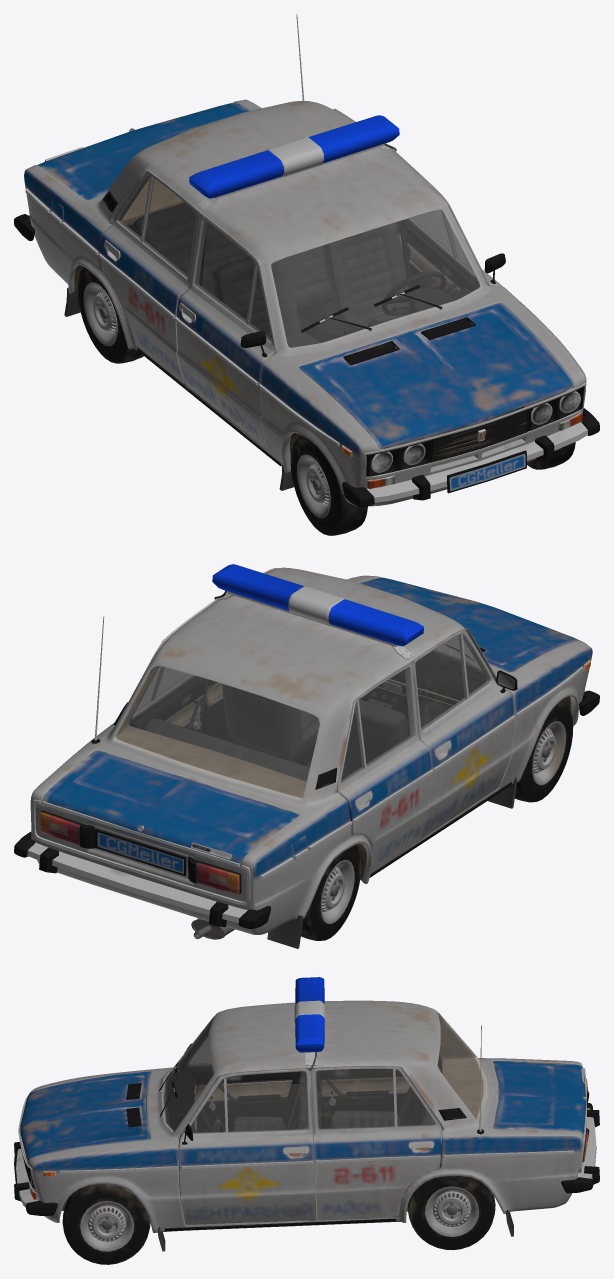
The model's file is zhiguli_police.glb.
The picture shows the model from 3 angles, top to bottom: view 1: azimuth 30°, elevation 25°; view 2: azimuth 150°, elevation 25°; view 3: azimuth 270°, elevation 25°; orthographic projection. The views are drawn at different scales.
Visible parts, largest first — view 1: vaz_2106_main.001_0; view 2: vaz_2106_main.001_0; view 3: vaz_2106_main.001_0.
Boxes of the visible parts, x1,y1,x2,y2 form: vaz_2106_main.001_0: (14, 14, 599, 535); vaz_2106_main.001_0: (14, 564, 599, 948); vaz_2106_main.001_0: (14, 977, 599, 1264).
Bounding box in the file's own units: 1.77 × 1.92 × 4.17.
1 material, 1 textured.
